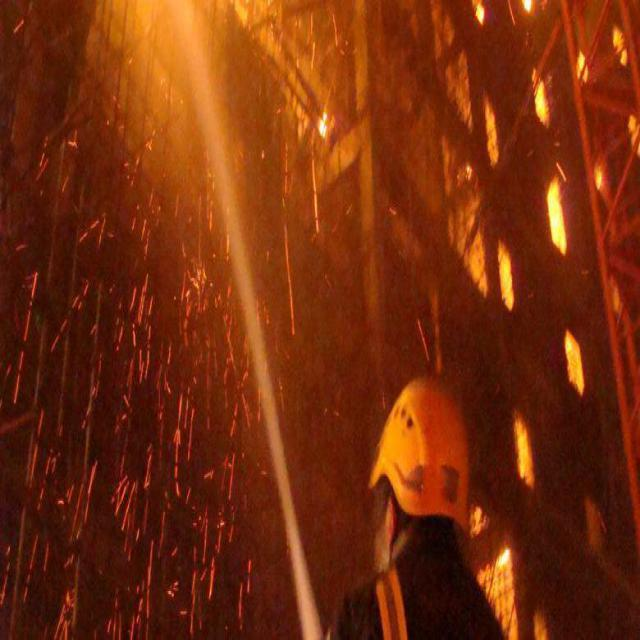Fire: (470, 9, 639, 481)
